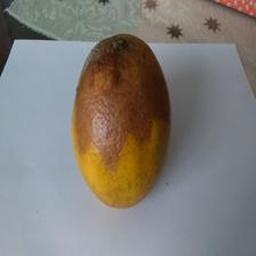Orange Rotten: (55, 18, 180, 214)
